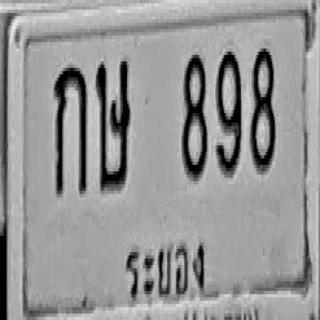A01: (53, 63, 87, 196)
A39: (95, 55, 130, 191)
N08: (181, 50, 207, 179), (249, 44, 275, 170)
N09: (215, 49, 241, 174)
P53: (119, 240, 211, 303)
